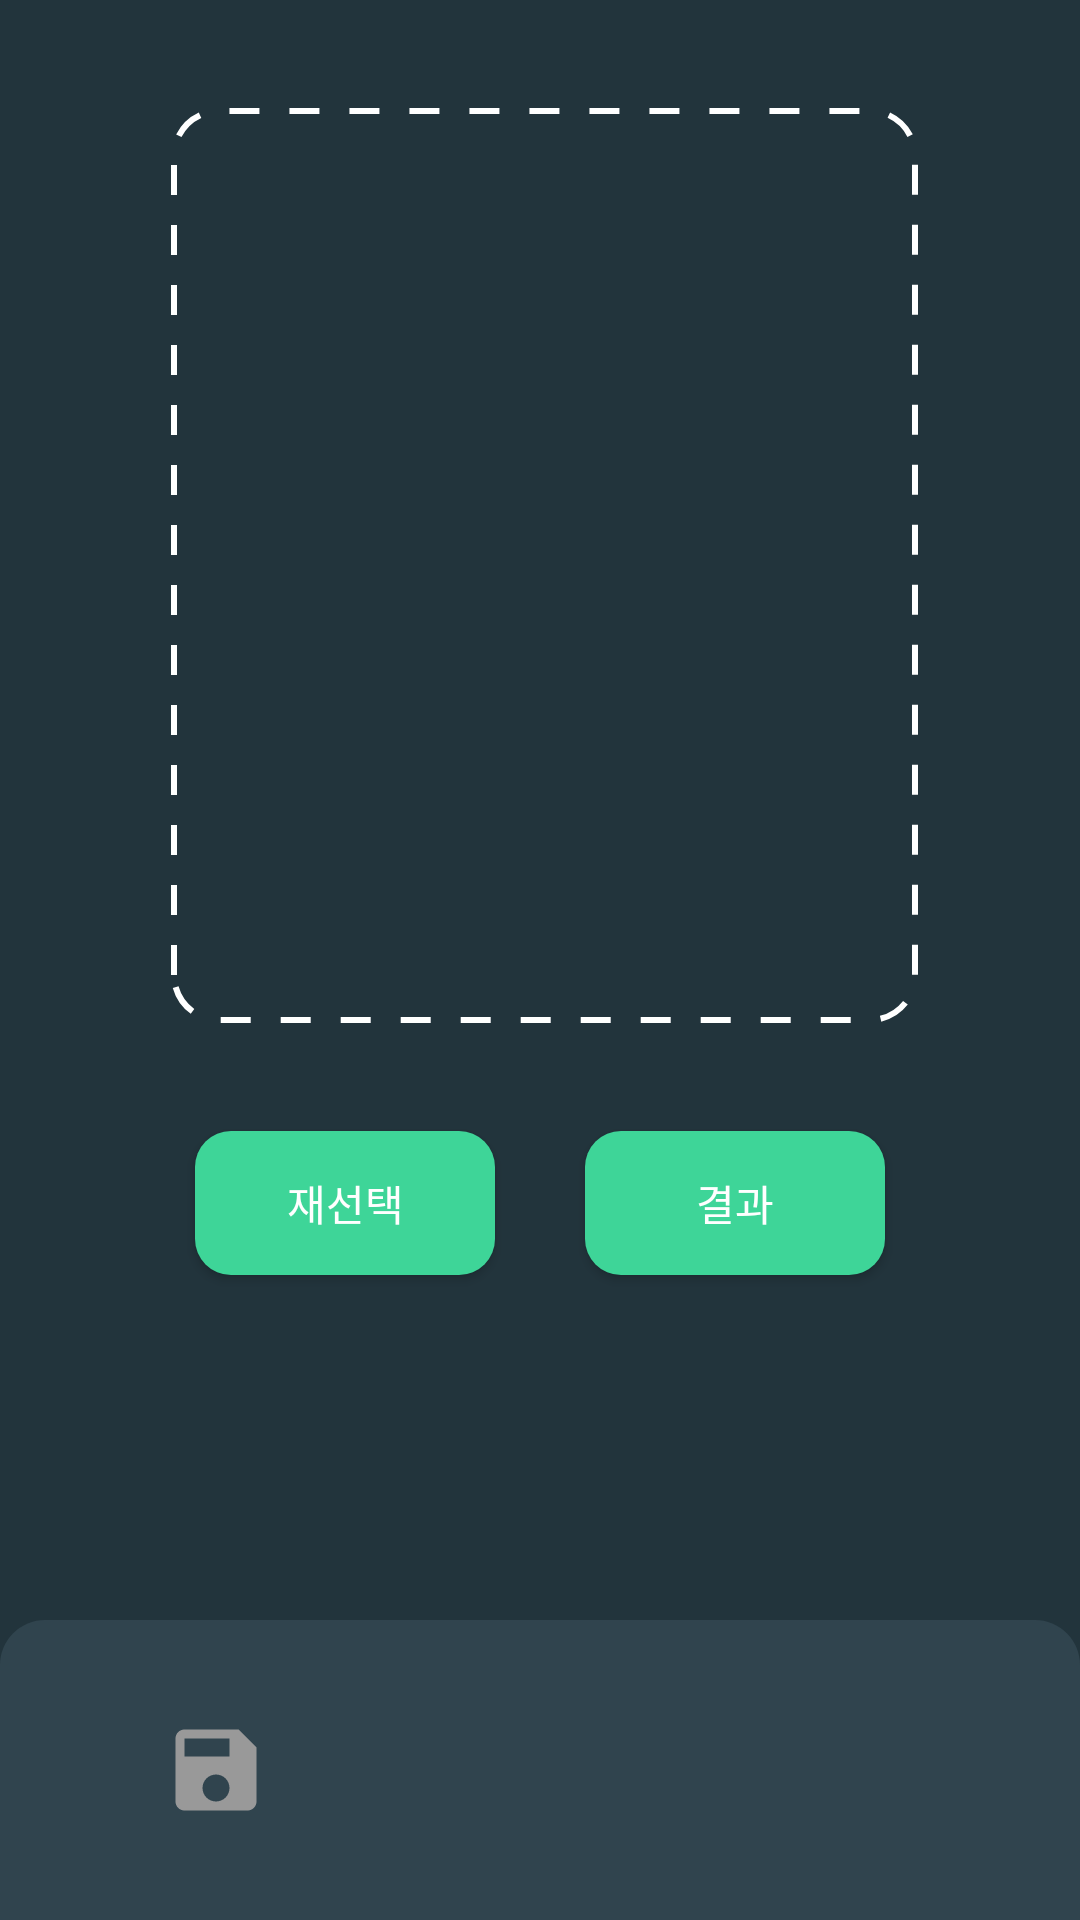

Screen size 1080 × 1920. Icon name, then its center in pixels as [x,y]:
save: [216,1770]
